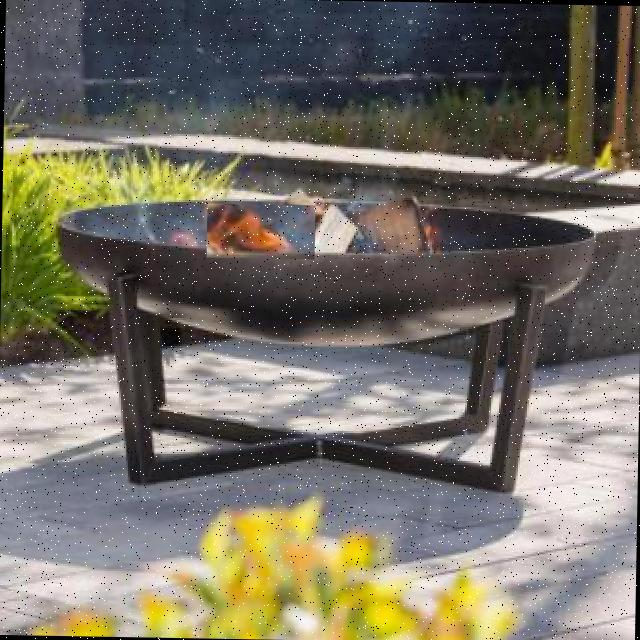fire: (206, 203, 315, 259)
